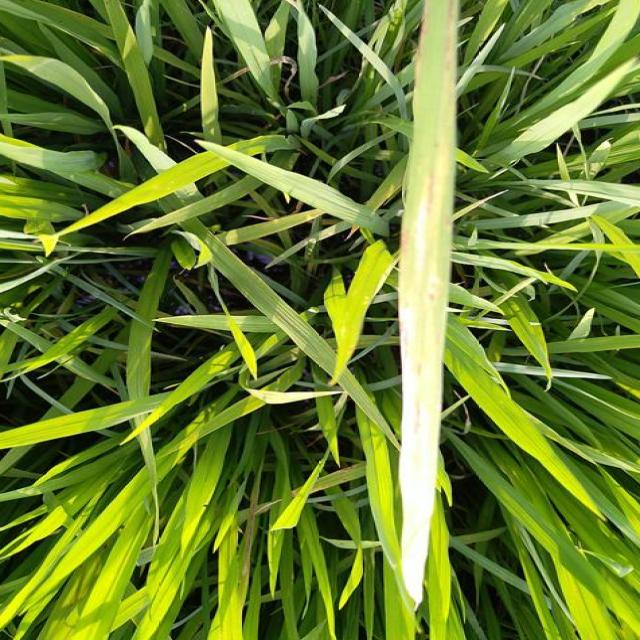Leaf Streak: (399, 192, 452, 603)
